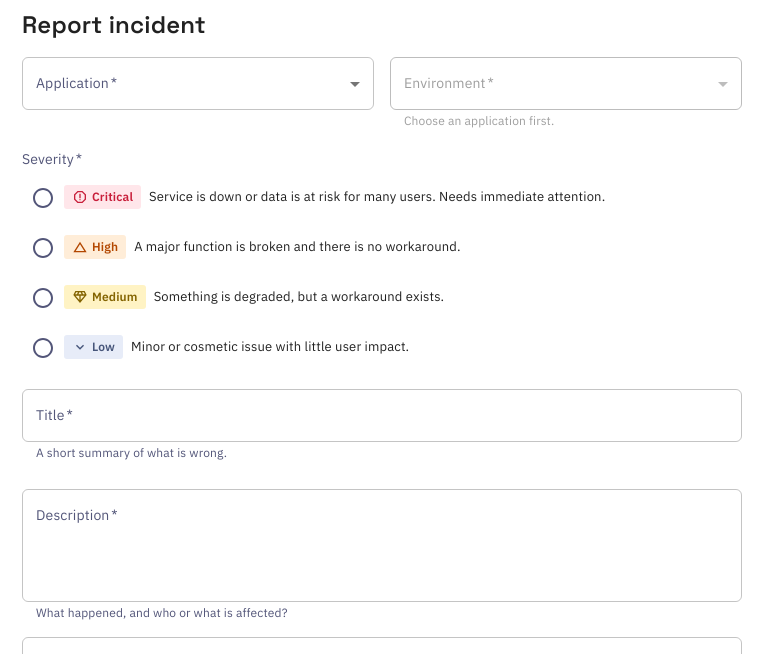
Scenario: ReportRoute › follows the cursor to load every application
This screenshot has width=759, height=654.
Click the 1st dropdown named "application". click: (198, 84)
box: x1=22 y1=57 x2=374 y2=110
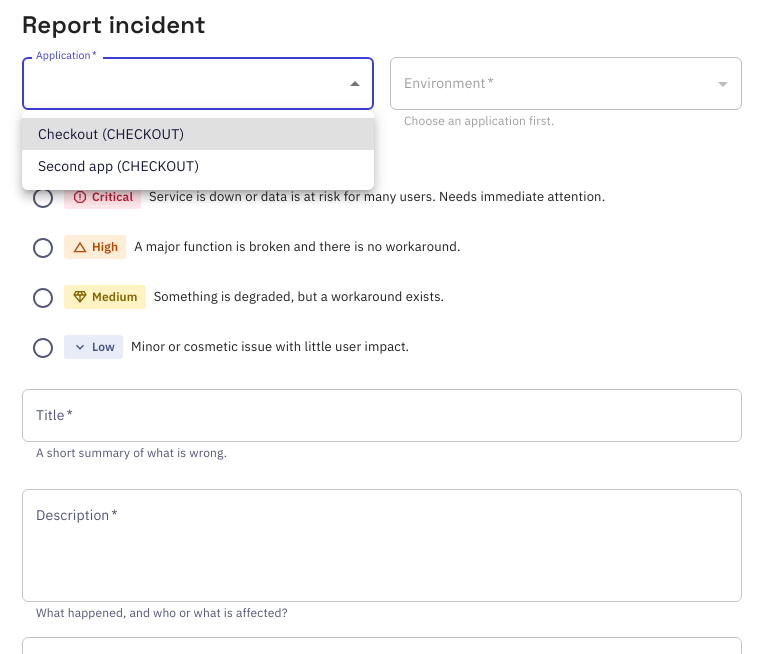
expect the option "Second app (CHECKOUT)" is shown: met, box x1=38 y1=157 x2=199 y2=175
